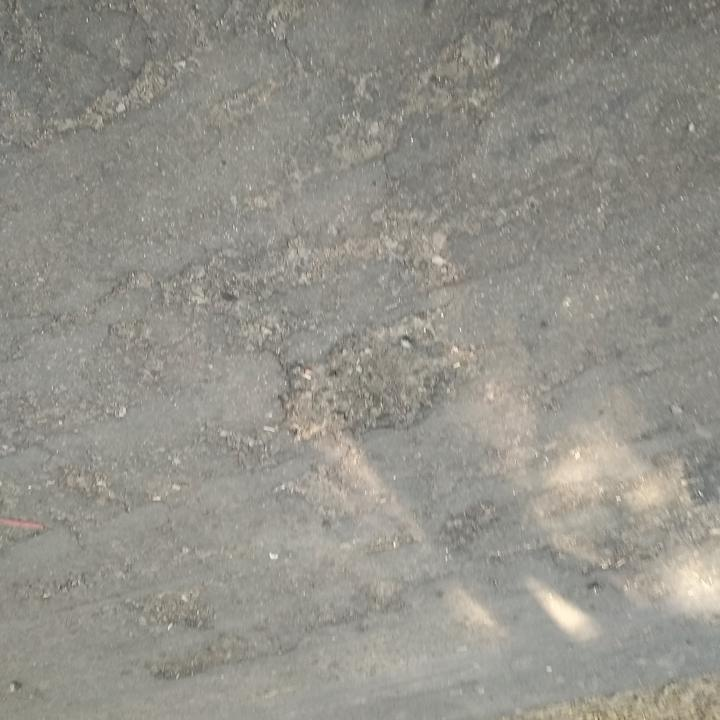pothole: (267, 310, 482, 451)
